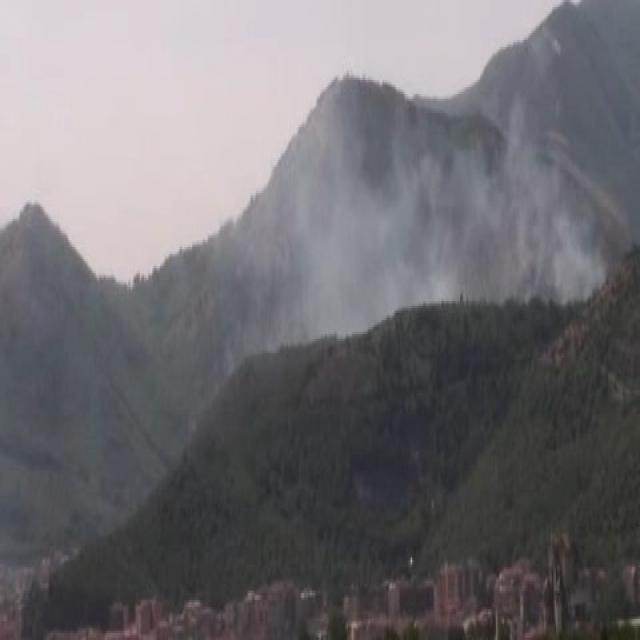smoke: (290, 151, 572, 302)
